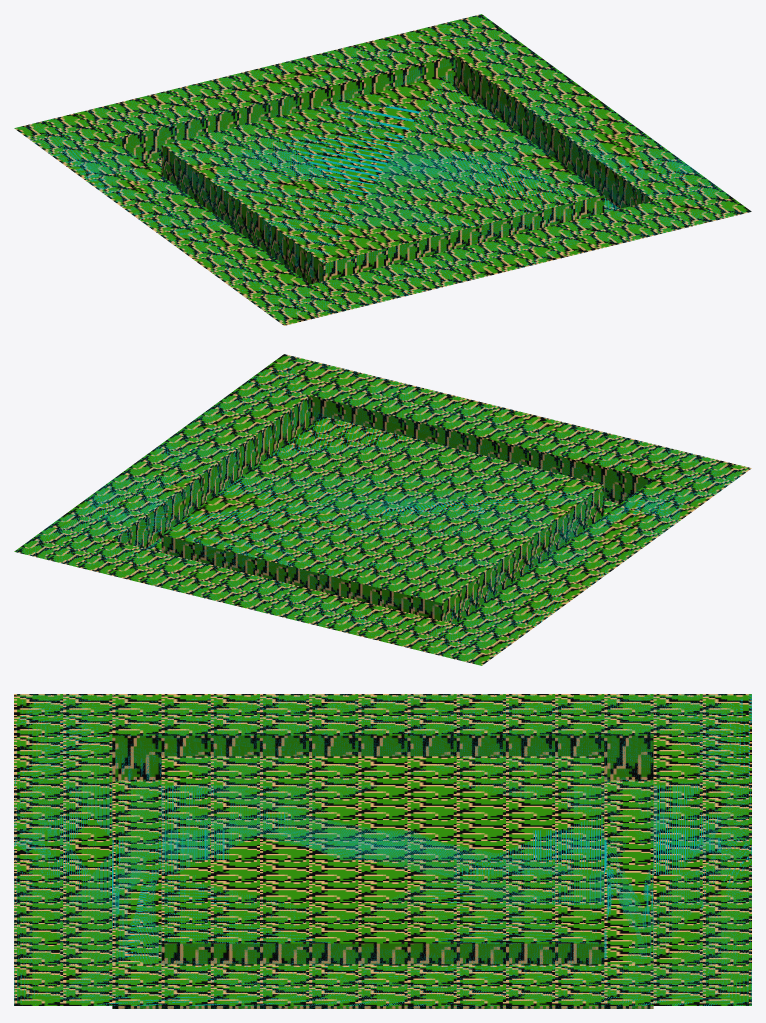
Rendered from Dungeon Floor Water [].fbx.
3 views of the same model, one above another, from view 1: azimuth 30°, elevation 25°; view 2: azimuth 150°, elevation 25°; view 3: azimuth 270°, elevation 25° (orthographic). The views are drawn at different scales.
Visible parts, largest first — view 1: group_0, group_0.001, group_0.002; view 2: group_0, group_0.001, group_0.002; view 3: group_0, group_0.001, group_0.002.
Part boxes in pixels (box(x1,y1,x2,y2)): group_0: box(14, 14, 751, 325); group_0.001: box(161, 76, 604, 284); group_0.002: box(113, 55, 652, 212); group_0: box(14, 354, 751, 665); group_0.001: box(161, 416, 604, 624); group_0.002: box(113, 395, 652, 552); group_0: box(14, 694, 751, 1005); group_0.001: box(161, 756, 604, 964); group_0.002: box(112, 735, 653, 1008).
Size of the model in its own units: 1500 by 100 by 1500.
